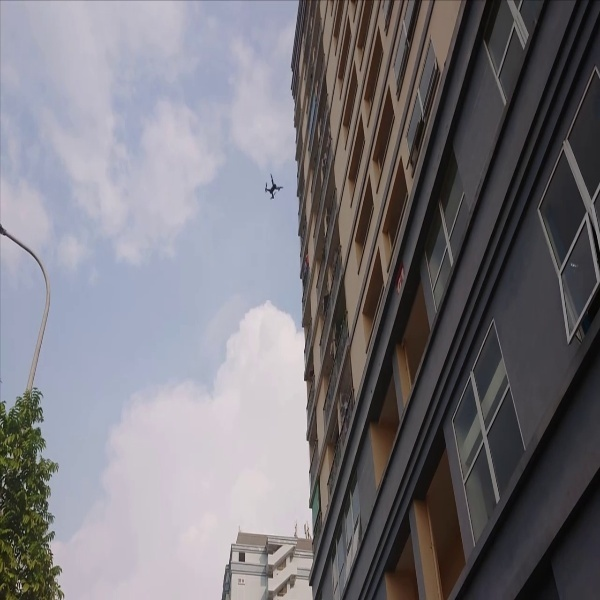drone: (261, 167, 288, 205)
